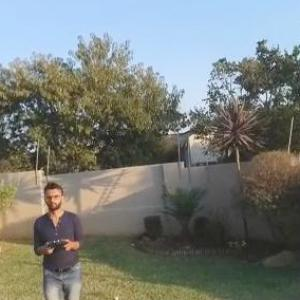follow: (21, 173, 81, 299)
